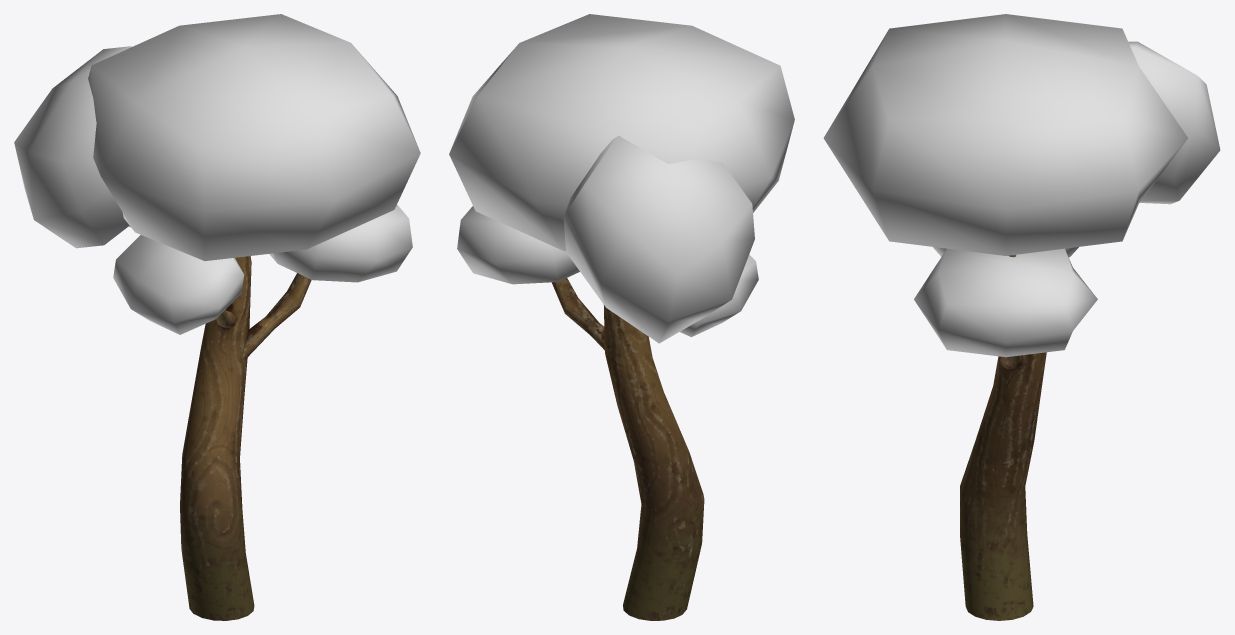
Rendered from Arvore_03.fbx.
3 views of the same model, side by side, from view 1: azimuth 30°, elevation 25°; view 2: azimuth 150°, elevation 25°; view 3: azimuth 270°, elevation 25° (orthographic). The views are drawn at different scales.
Parts seen in each view (by area): view 1: Cube, Arvore_03; view 2: Cube, Arvore_03; view 3: Cube, Arvore_03.
Part boxes in pixels (left/top/right/bottom): Cube: left=14, top=14, right=420, bottom=334; Arvore_03: left=129, top=226, right=311, bottom=620; Cube: left=449, top=14, right=794, bottom=343; Arvore_03: left=551, top=278, right=704, bottom=620; Cube: left=823, top=14, right=1220, bottom=357; Arvore_03: left=960, top=255, right=1046, bottom=620.
Size of the model in its own units: 3.05 by 5.16 by 3.21.
